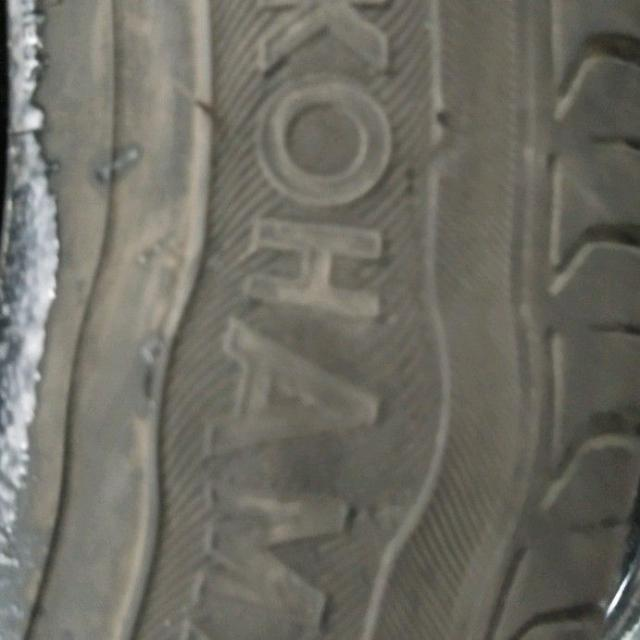Bulge: (36, 247, 540, 534)
